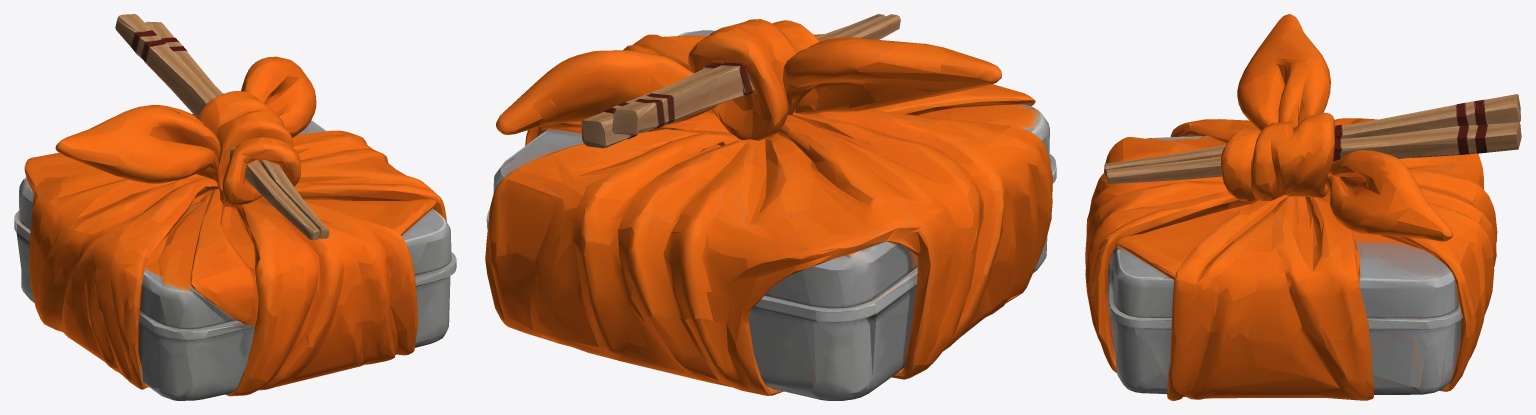
File: cons_lunchbox.glb
3 renders of one model, left to right at view 1: azimuth 30°, elevation 25°; view 2: azimuth 150°, elevation 25°; view 3: azimuth 270°, elevation 25°, orthographic. The views are drawn at different scales.
Parts seen in each view (by area): view 1: output_unwrapped; view 2: output_unwrapped; view 3: output_unwrapped.
Part boxes in pixels (<box>): output_unwrapped: <box>14,14,456,400</box>; output_unwrapped: <box>485,14,1056,400</box>; output_unwrapped: <box>1085,14,1521,400</box>.
Size of the model in its own units: 1.78 by 1.12 by 1.9.
1 material, 1 textured.
